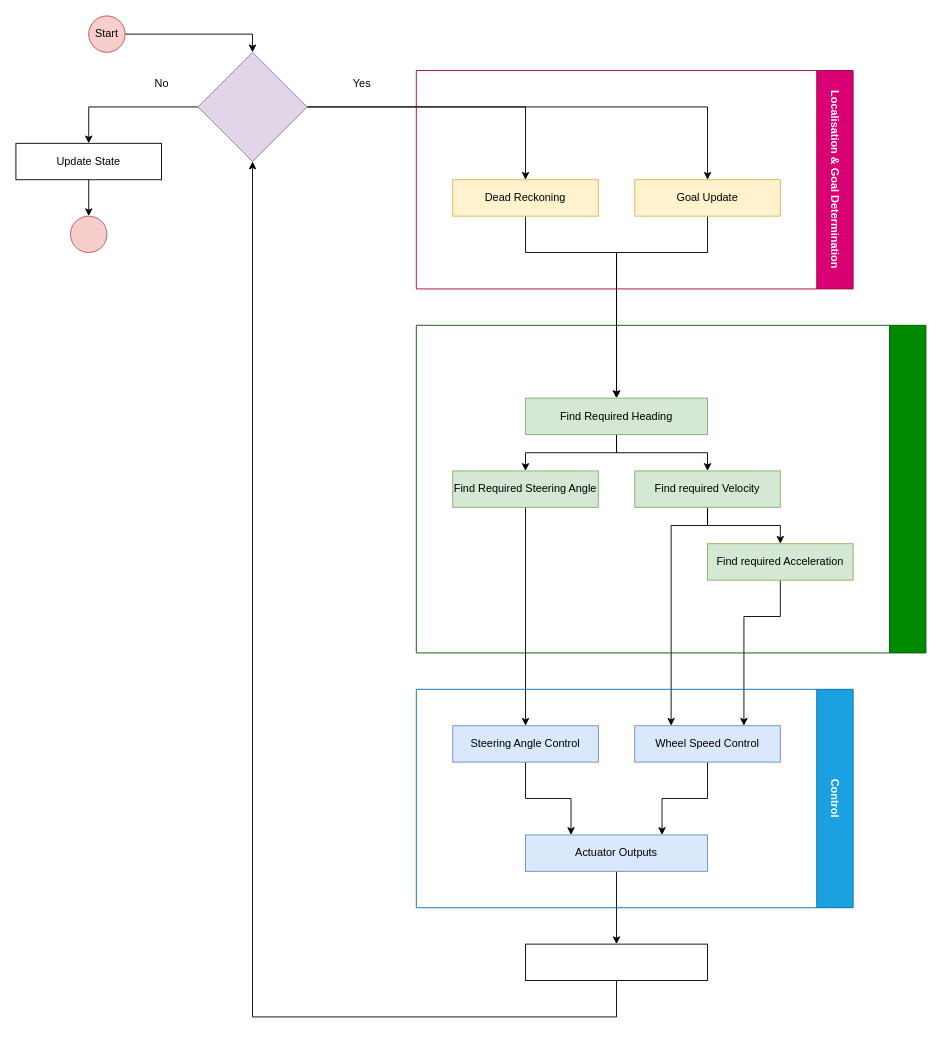
This 942x1040 diagram has some shape labels left out. The centre of each missing label's shape, as x and y in pixels:
"Are we in SD mode?" goes at (252,106).
"Check Termination Conditions" goes at (616,962).
"End" goes at (88,234).
"Navigation" goes at (670,488).
